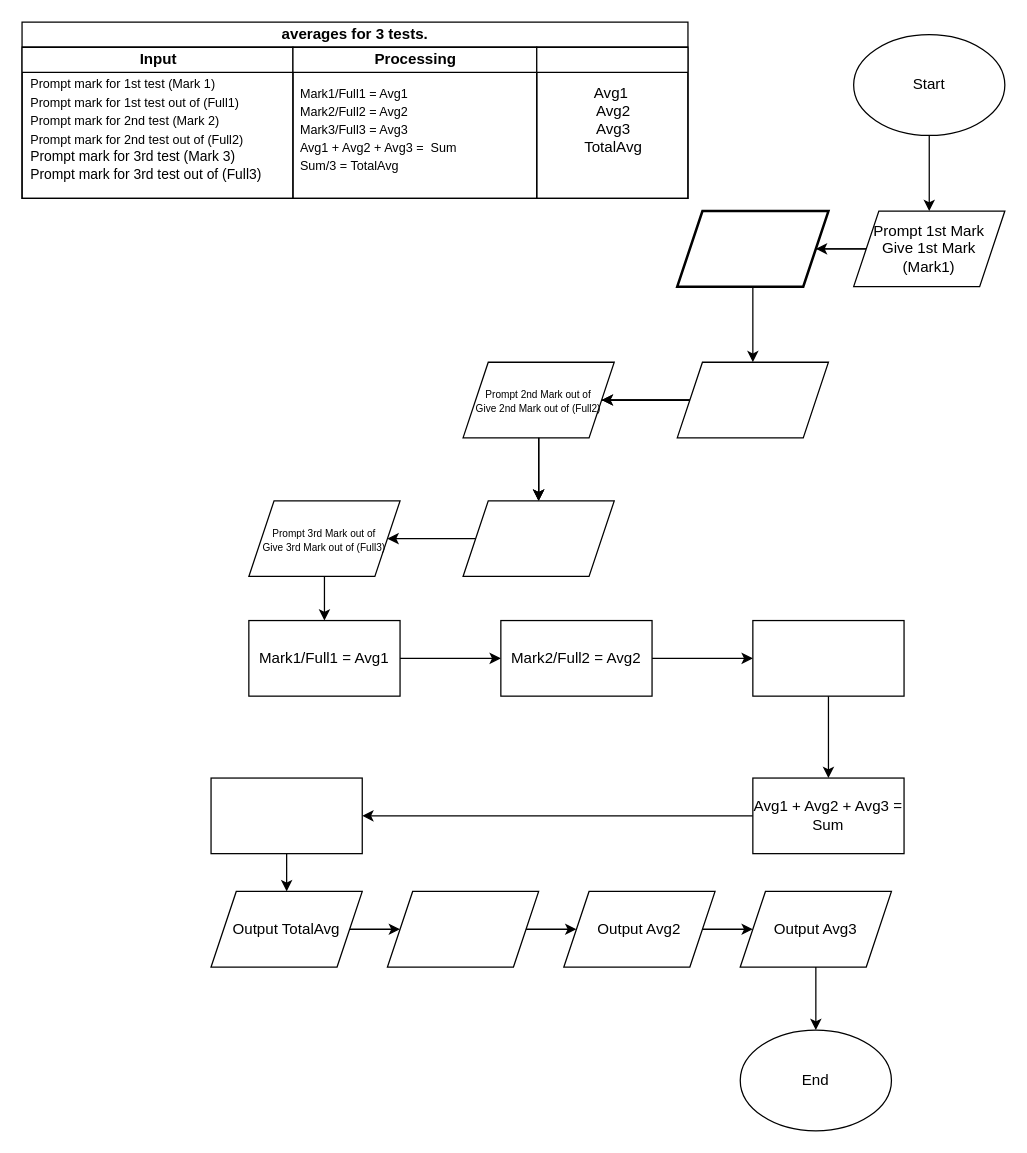
Some shapes in this 1027 by 1153 pixel diagram are drawn without their labels. Each missing label, with the box of its shape:
Mark3/Full3 = Avg3: (752, 619, 904, 696)
Output: (536, 46, 688, 198)
Output Avg1: (386, 890, 539, 967)
Prompt 1st Mark out of Give 1st Mark out of (Full1): (675, 209, 829, 287)
Prompt 2nd Mark Give 2nd Mark (Mark2): (676, 361, 828, 438)
Prompt 3rd Mark Give 3rd Mark (Mark3): (462, 500, 614, 576)
Sum/3 = TotalAvg: (210, 777, 362, 854)
